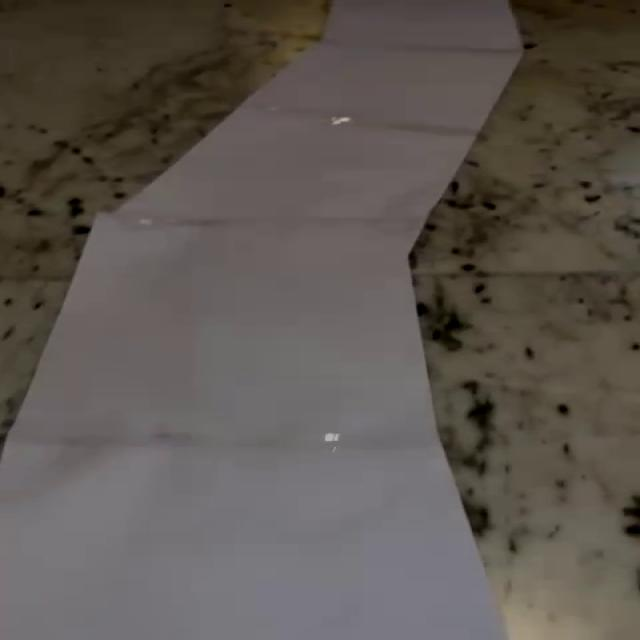road: (3, 0, 520, 640)
